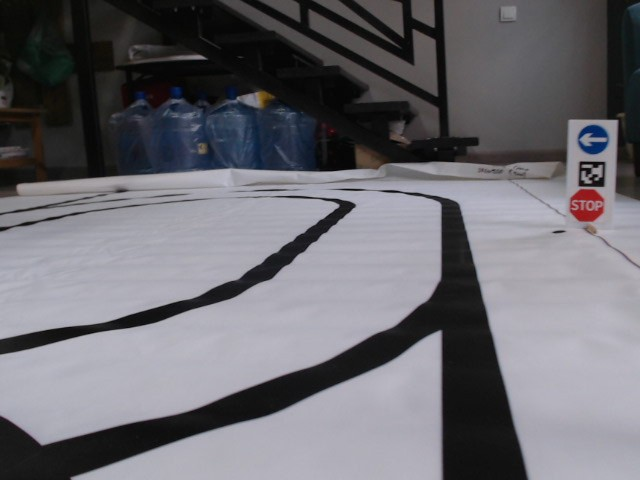Stop: (568, 187, 606, 224)
